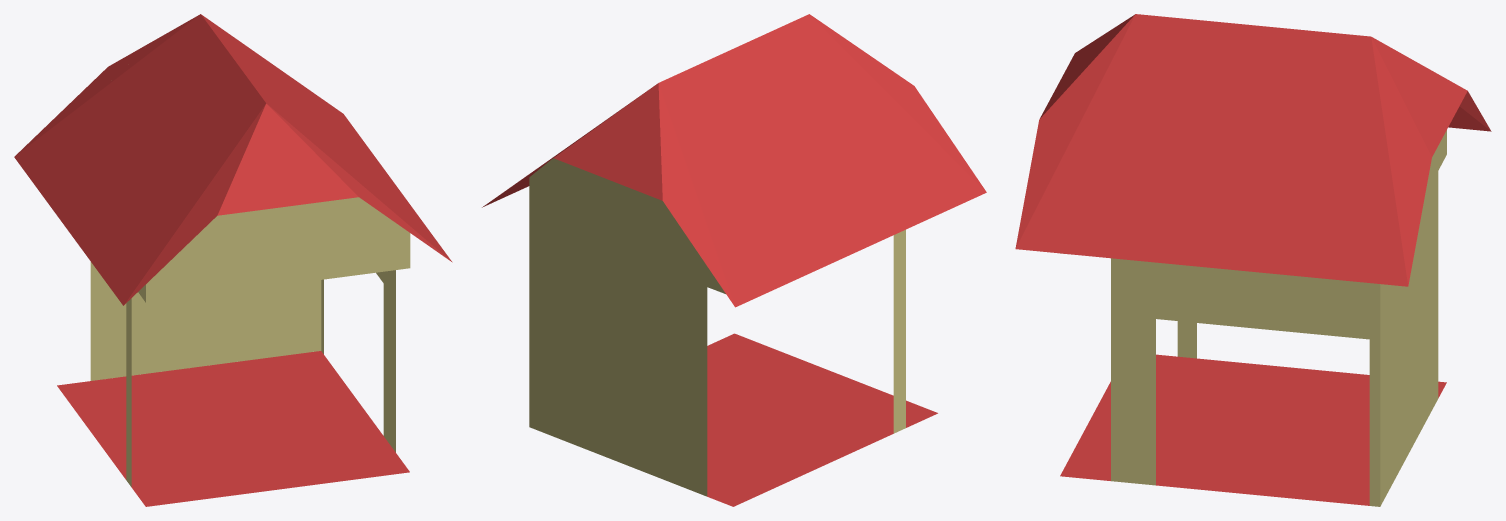
3 views of the same model, side by side, from view 1: azimuth 30°, elevation 25°; view 2: azimuth 150°, elevation 25°; view 3: azimuth 270°, elevation 25° (orthographic). The views are drawn at different scales.
Parts seen in each view (by area): view 1: group_3, group_5, group_6, group_4; view 2: group_3, group_5, group_6, group_4; view 3: group_3, group_5, group_6, group_4.
Boxes of the visible parts, box(x1,y1,x2,y2) form: group_3: box(14, 14, 452, 305); group_5: box(90, 197, 410, 486); group_6: box(57, 351, 409, 506); group_4: box(27, 43, 355, 215); group_3: box(489, 14, 986, 307); group_5: box(529, 158, 905, 496); group_6: box(707, 333, 937, 506); group_4: box(482, 53, 913, 305); group_3: box(1015, 14, 1491, 286); group_5: box(1060, 130, 1446, 506); group_6: box(1060, 354, 1446, 505); group_4: box(1042, 54, 1490, 273).
Bounding box in the file's own units: 12.27 × 12.8 × 11.99.
